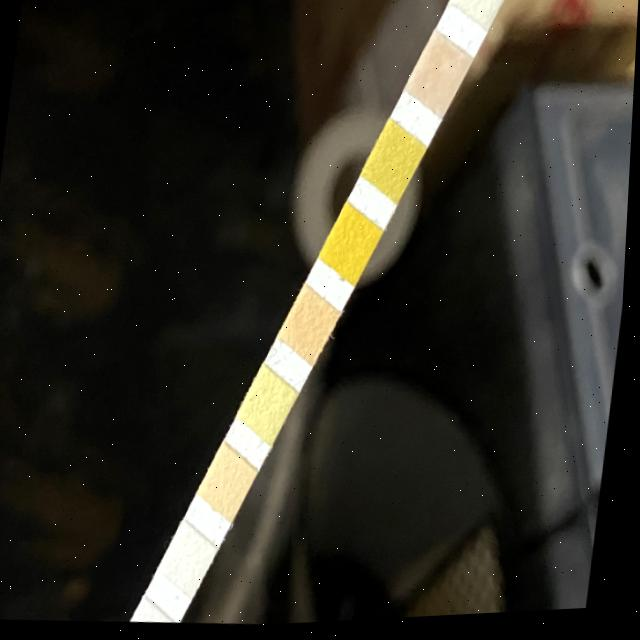Bilirubin: (465, 0, 503, 14)
Blood: (333, 221, 372, 271)
Ketone: (419, 50, 460, 101)
Leukocytes: (138, 616, 172, 625)
Nitrite: (171, 540, 212, 585)
Protein: (251, 385, 291, 429)
SpGravity: (375, 139, 414, 189)
Urobilinogen: (211, 463, 251, 505)
pH: (292, 305, 333, 351)
